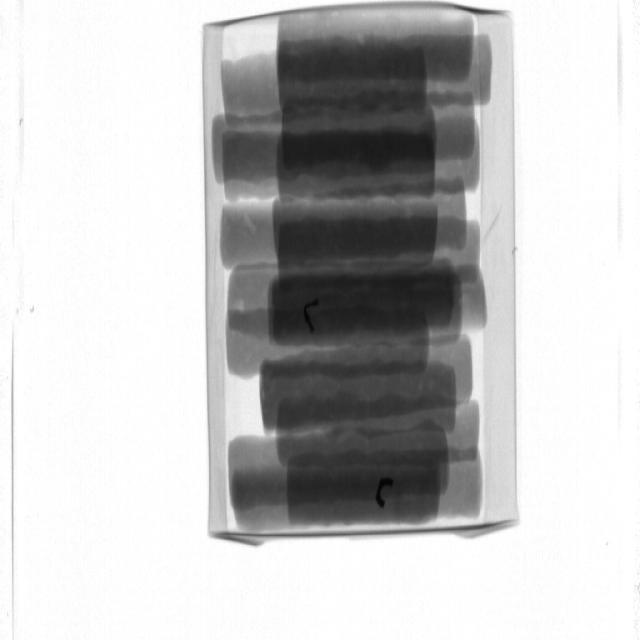ym: (377, 478, 395, 508), (305, 300, 320, 334)
